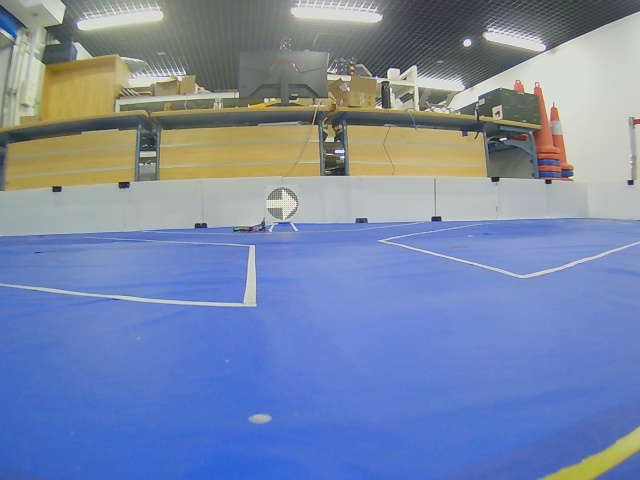right_yellow: (266, 187, 299, 221)
